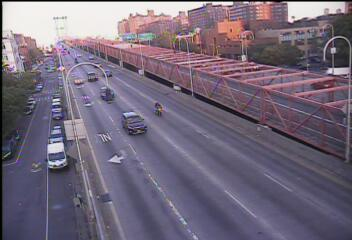neg: (146, 92, 171, 125), (66, 186, 88, 214), (328, 68, 345, 92), (310, 54, 322, 69)
